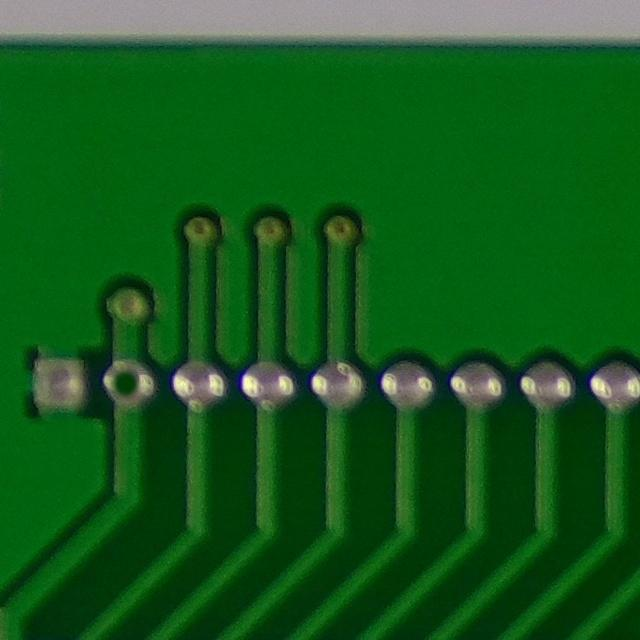missing_hole: (98, 353, 160, 410)
